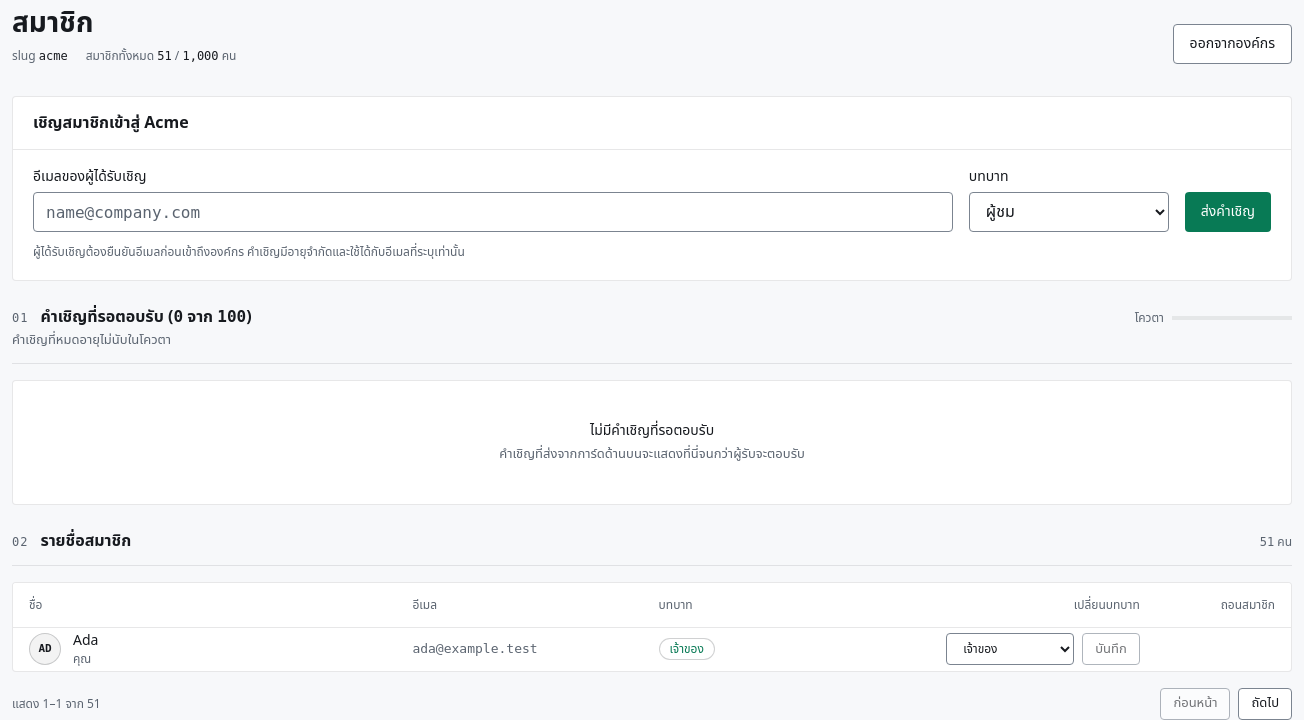
Test case: OrganizationMembersPage › resets an invalid later page before success rendering and refetches page one once
This screenshot has width=1304, height=720.
(page scrolled)
expect the row with test id "member-row-member-1" is shown: met, box [13, 627, 1291, 671]
expect the text with test id "member-name" reads "Ada": met, box [73, 630, 98, 651]
Click the button with test id "members-next" at (1265, 704), box [1238, 688, 1292, 719]
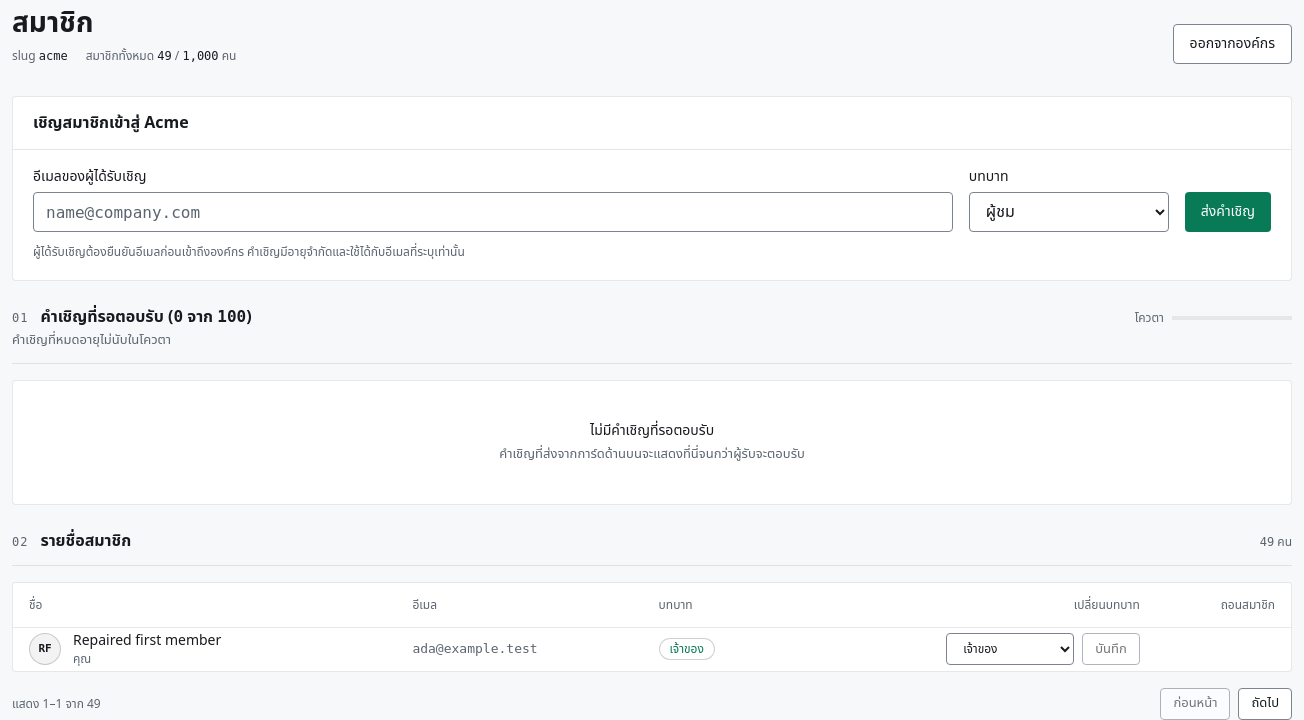
expect the row with test id "member-row-member-1" is shown: met, box [13, 627, 1291, 671]
expect the text with test id "member-name" reads "Repaired first member": met, box [73, 630, 221, 651]
expect the text with test id "members-pagination-summary" reads "แสดง 1–1 จาก 49": met, box [12, 696, 101, 712]
